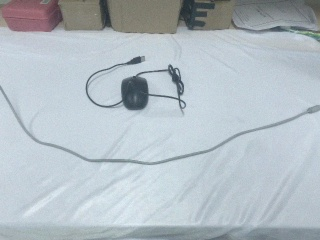box: (103, 1, 190, 38), (1, 1, 64, 35), (180, 1, 237, 32), (58, 1, 109, 33)
mouse: (120, 75, 150, 111)
